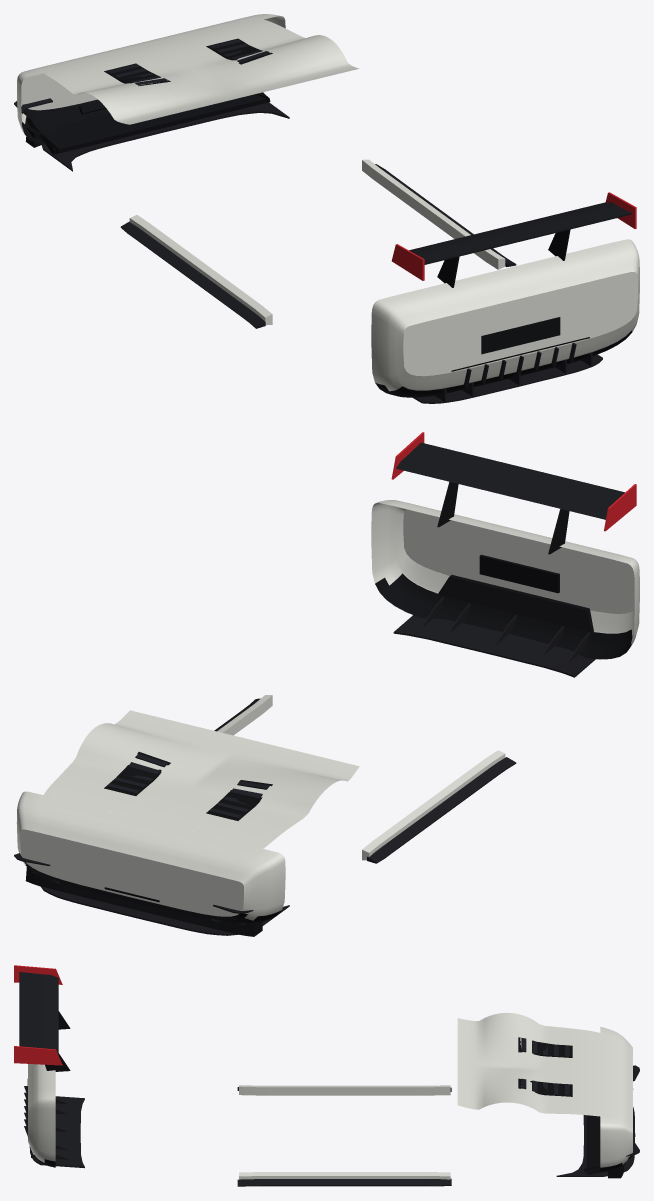
The model's file is kit_track.glb.
3 renders of one model, top to bottom at view 1: azimuth 30°, elevation 25°; view 2: azimuth 150°, elevation 25°; view 3: azimuth 270°, elevation 25°, orthographic. The views are drawn at different scales.
Visible parts, largest first — view 1: bumper_front__track, bumper_rear__track, hood__track, skirts__track, spoiler__track; view 2: bumper_front__track, hood__track, bumper_rear__track, spoiler__track, skirts__track; view 3: hood__track, bumper_front__track, skirts__track, bumper_rear__track, spoiler__track.
Part boxes in pixels (box(x1,y1,x2,y2)): bumper_front__track: box(14, 14, 637, 376); bumper_rear__track: box(371, 239, 639, 403); hood__track: box(44, 19, 358, 124); skirts__track: box(120, 159, 516, 328); spoiler__track: box(391, 192, 636, 287); bumper_front__track: box(14, 509, 634, 936); hood__track: box(43, 710, 359, 848); bumper_rear__track: box(371, 500, 639, 677); spoiler__track: box(391, 432, 636, 554); skirts__track: box(214, 695, 516, 863); hood__track: box(457, 1012, 600, 1116); bumper_front__track: box(556, 1027, 639, 1178); skirts__track: box(237, 1085, 451, 1186); bumper_rear__track: box(24, 1064, 84, 1168); spoiler__track: box(14, 965, 70, 1071).
Size of what is drawn, in the model's own units: 1.81 by 1.11 by 4.77.
